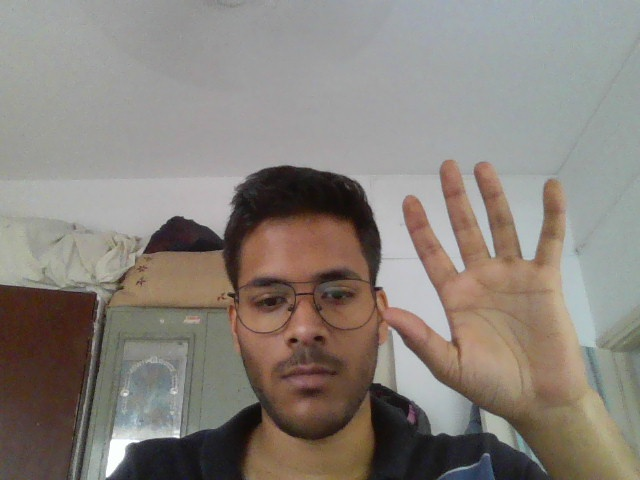hello: (360, 148, 612, 419)
